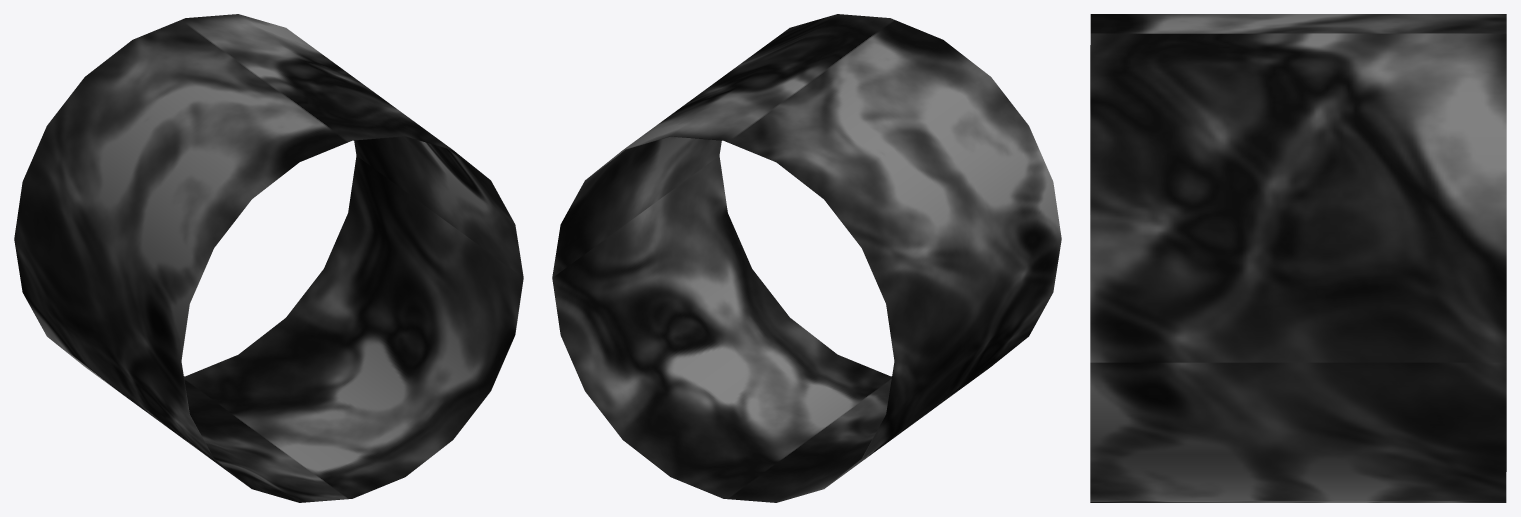
Rendered from aura.fbx.
3 renders of one model, left to right at view 1: azimuth 30°, elevation 25°; view 2: azimuth 150°, elevation 25°; view 3: azimuth 270°, elevation 25°, orthographic. The views are drawn at different scales.
Parts seen in each view (by area): view 1: pPipe1; view 2: pPipe1; view 3: pPipe1.
Boxes of the visible parts, x1=… form: pPipe1: x1=14, y1=14, x2=523, y2=502; pPipe1: x1=552, y1=14, x2=1061, y2=502; pPipe1: x1=1090, y1=14, x2=1506, y2=502.
Size of the model in its own units: 11.94 by 11.94 by 10.08.
1 material, 1 textured.
